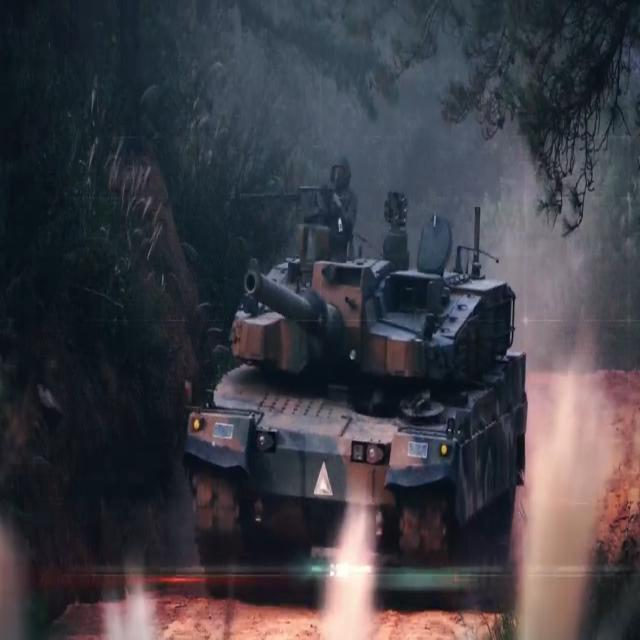korea tank: (178, 156, 530, 618)
